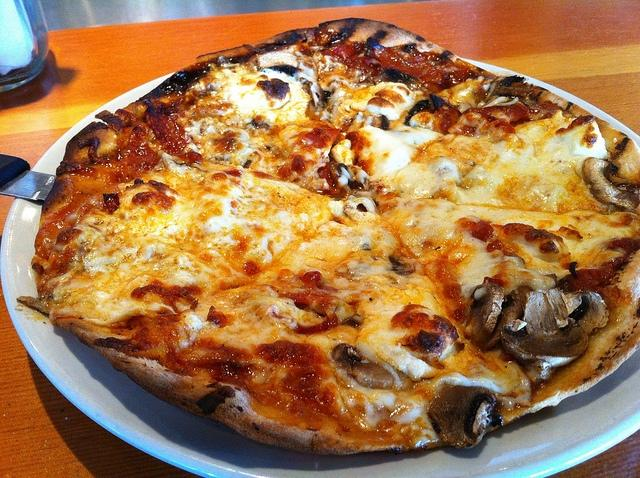mushroom: (500, 291, 588, 368), (426, 384, 496, 450), (332, 343, 416, 392), (481, 286, 533, 352), (540, 287, 610, 334), (580, 156, 638, 211), (467, 281, 504, 344), (256, 78, 290, 100), (404, 100, 431, 126), (496, 86, 534, 98), (356, 203, 366, 212)
